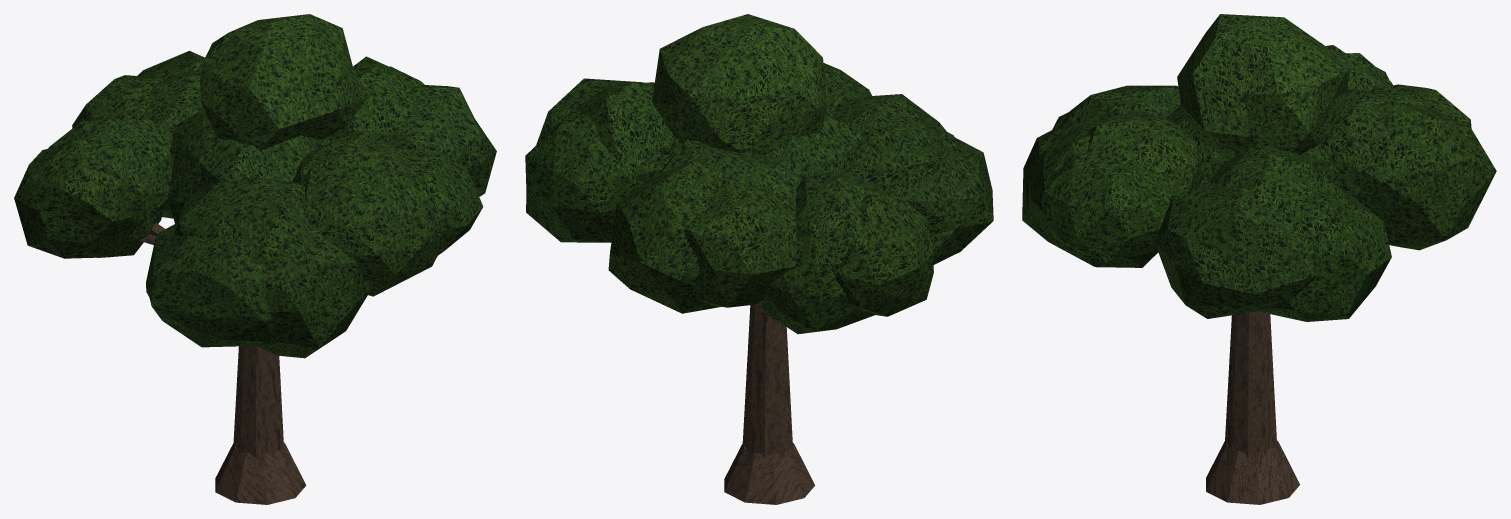
Rendered from tree_oak_a.glb.
The picture shows the model from 3 angles, left to right: view 1: azimuth 30°, elevation 25°; view 2: azimuth 150°, elevation 25°; view 3: azimuth 270°, elevation 25°; orthographic projection. The views are drawn at different scales.
Parts seen in each view (by area): view 1: tree_oak_a; view 2: tree_oak_a; view 3: tree_oak_a.
Boxes of the visible parts, <box> form: tree_oak_a: <box>14,14,496,504</box>; tree_oak_a: <box>525,14,993,504</box>; tree_oak_a: <box>1022,14,1496,504</box>.
Bounding box in the file's own units: 7.5 × 7.74 × 7.03.
Materials: 2 (2 with a texture image).
